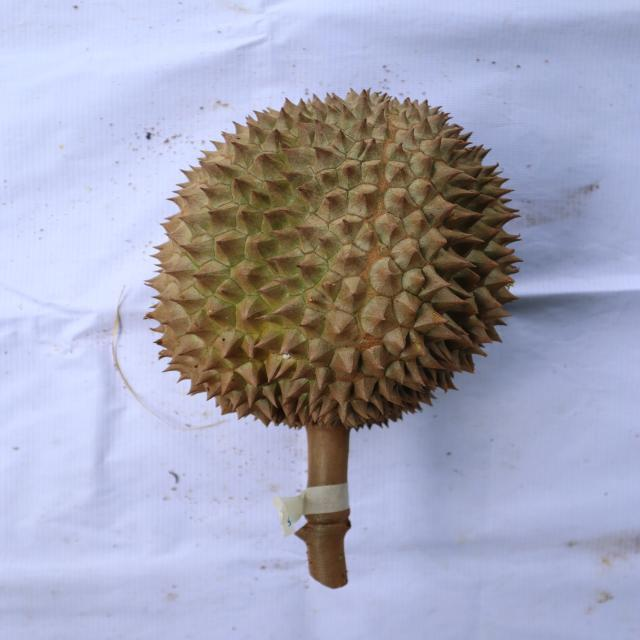mature: (142, 82, 532, 434)
